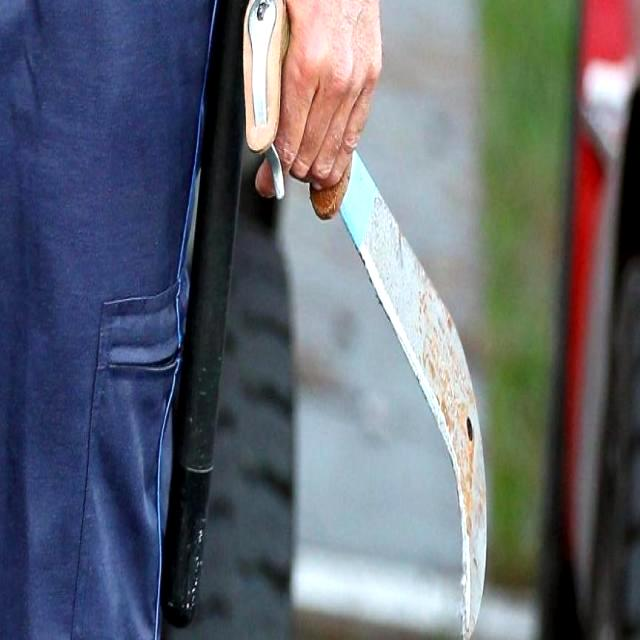long knife: (238, 18, 498, 638)
